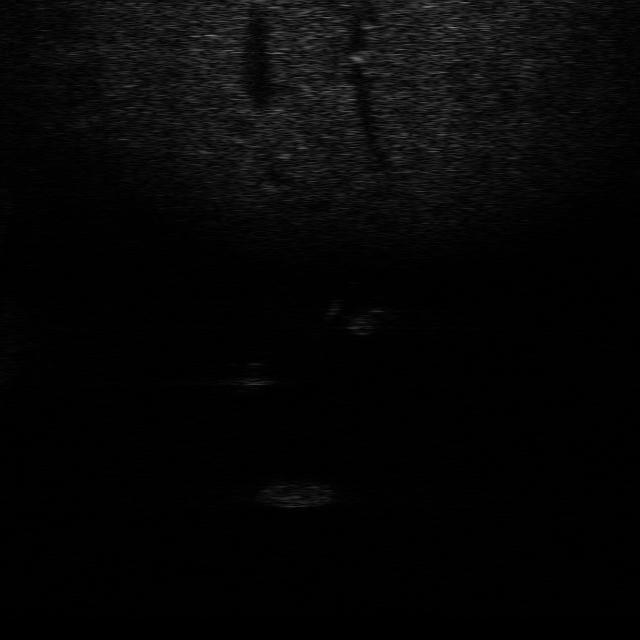ball: (229, 356, 281, 389)
circle cage: (250, 473, 335, 512)
human body: (311, 292, 385, 338)
